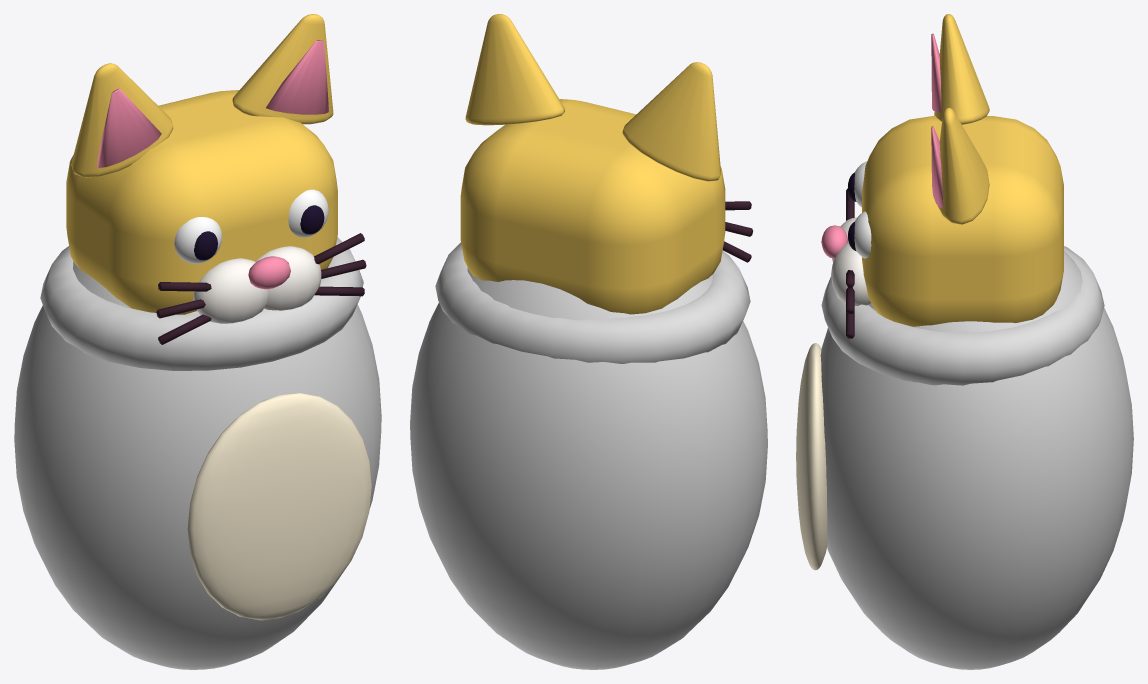
Rendered from matryoshka_doll.glb.
3 renders of one model, left to right at view 1: azimuth 30°, elevation 25°; view 2: azimuth 150°, elevation 25°; view 3: azimuth 270°, elevation 25°, orthographic. The views are drawn at different scales.
Visible parts, largest first — view 1: Tint_Dress, DollHead, Apron, Tint_Collar, Tint_Ear, Tint_Ear.001, Muzzle, InnerEar, InnerEar.001, Muzzle.001, EyeWhite, Nose (+3 smaller); view 2: Tint_Dress, DollHead, Tint_Collar, Tint_Ear, Tint_Ear.001; view 3: Tint_Dress, DollHead, Tint_Collar, Apron, Tint_Ear.001, Tint_Ear, Muzzle.001, InnerEar.001, InnerEar, EyeWhite.001, Nose.
Part boxes in pixels (bbox=[...]): Tint_Dress: bbox=[14, 261, 381, 669]; DollHead: bbox=[66, 90, 337, 314]; Apron: bbox=[187, 393, 371, 620]; Tint_Collar: bbox=[40, 237, 363, 370]; Tint_Ear: bbox=[71, 63, 173, 177]; Tint_Ear.001: bbox=[232, 14, 333, 124]; Muzzle: bbox=[193, 258, 267, 323]; InnerEar: bbox=[97, 88, 161, 167]; InnerEar.001: bbox=[266, 40, 328, 114]; Muzzle.001: bbox=[256, 246, 321, 310]; EyeWhite: bbox=[174, 217, 222, 263]; Nose: bbox=[248, 256, 290, 289]; Tint_Dress: bbox=[410, 267, 767, 669]; DollHead: bbox=[460, 99, 725, 314]; Tint_Collar: bbox=[435, 242, 750, 363]; Tint_Ear: bbox=[622, 62, 720, 181]; Tint_Ear.001: bbox=[465, 14, 564, 125]; Tint_Dress: bbox=[820, 251, 1133, 669]; DollHead: bbox=[862, 116, 1063, 326]; Tint_Collar: bbox=[821, 246, 1104, 385]; Apron: bbox=[796, 343, 827, 570]; Tint_Ear.001: bbox=[937, 107, 989, 224]; Tint_Ear: bbox=[934, 14, 989, 124]; Muzzle.001: bbox=[831, 242, 870, 305]; InnerEar.001: bbox=[931, 126, 943, 207]; InnerEar: bbox=[931, 33, 941, 112]; EyeWhite.001: bbox=[854, 211, 871, 258]; Nose: bbox=[821, 225, 848, 258].
Size of the model in its own units: 0.92 by 1.69 by 0.87.
